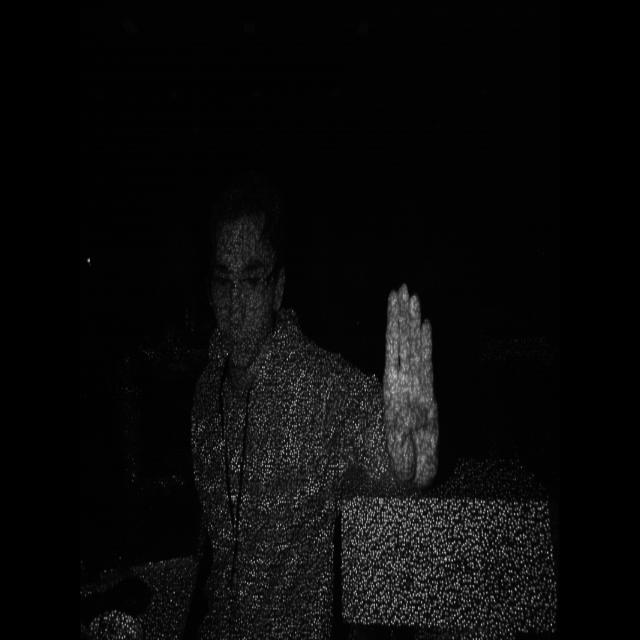B: (375, 276, 445, 492)
